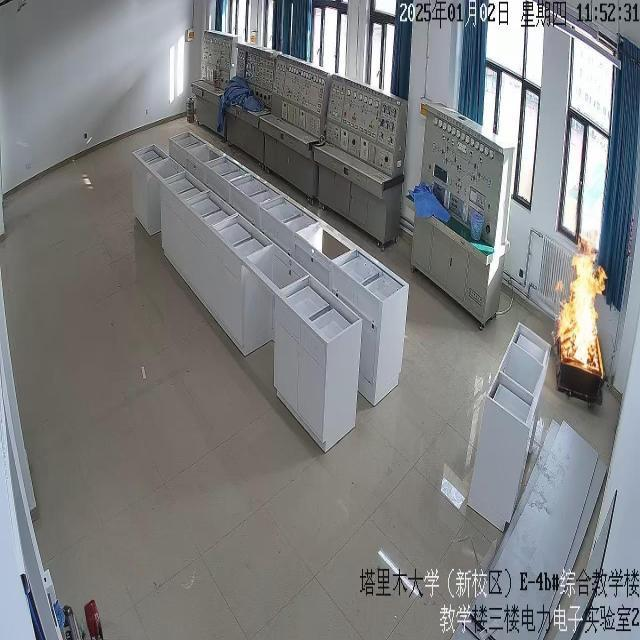smoke: (558, 233, 606, 374)
